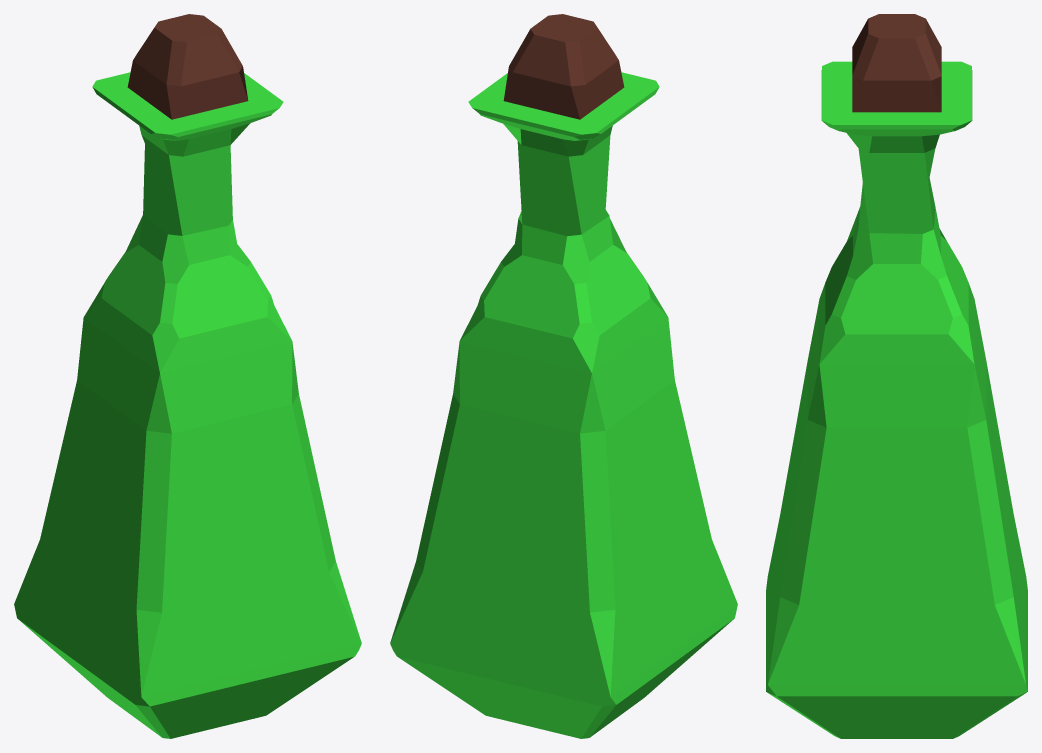
Rendered from Potion2.fbx.
3 views of the same model, side by side, from view 1: azimuth 30°, elevation 25°; view 2: azimuth 150°, elevation 25°; view 3: azimuth 270°, elevation 25° (orthographic).
Parts seen in each view (by area): view 1: Cube; view 2: Cube; view 3: Cube.
Boxes of the visible parts, <box> form: Cube: <box>14,14,361,738</box>; Cube: <box>390,14,737,738</box>; Cube: <box>766,14,1027,738</box>.
Size of the model in its own units: 243 by 704 by 243.
